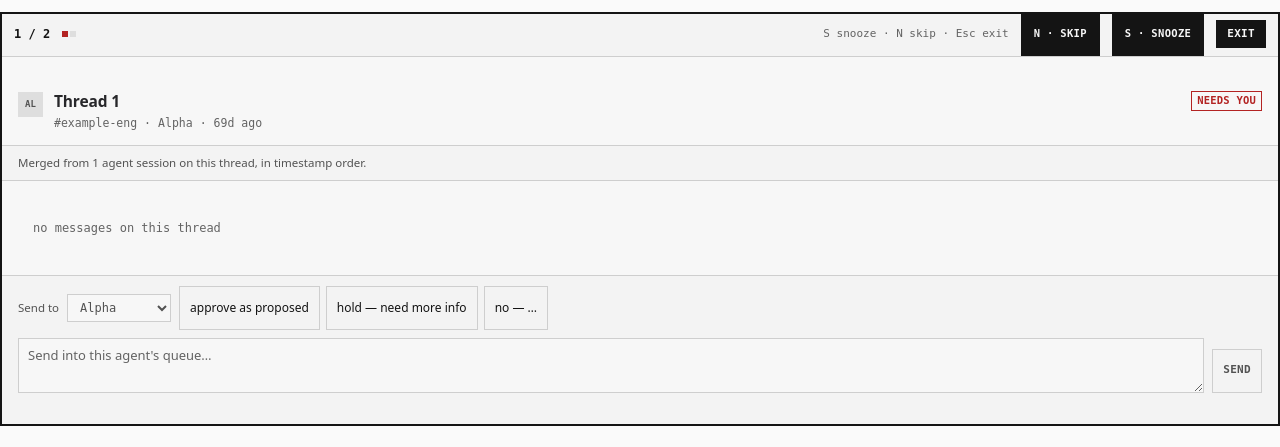
Test: skip moves past a thread without touching it › the touch-reachable skip button does the same thing as the key
Click the button "N · skip": {"x": 1060, "y": 34} 1021,12 -> 1100,56
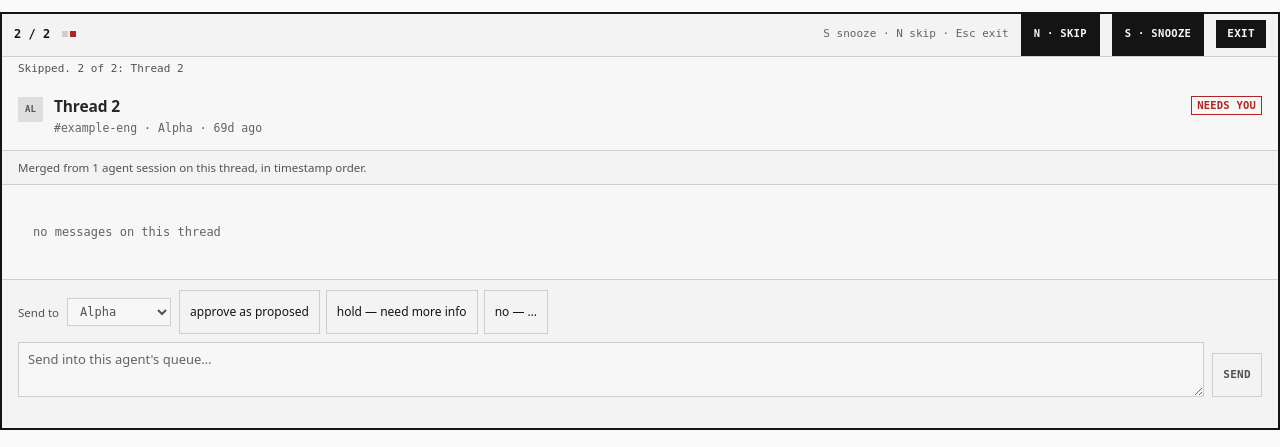
Now the text "2 / 2" is shown, box 14,25 -> 50,43
